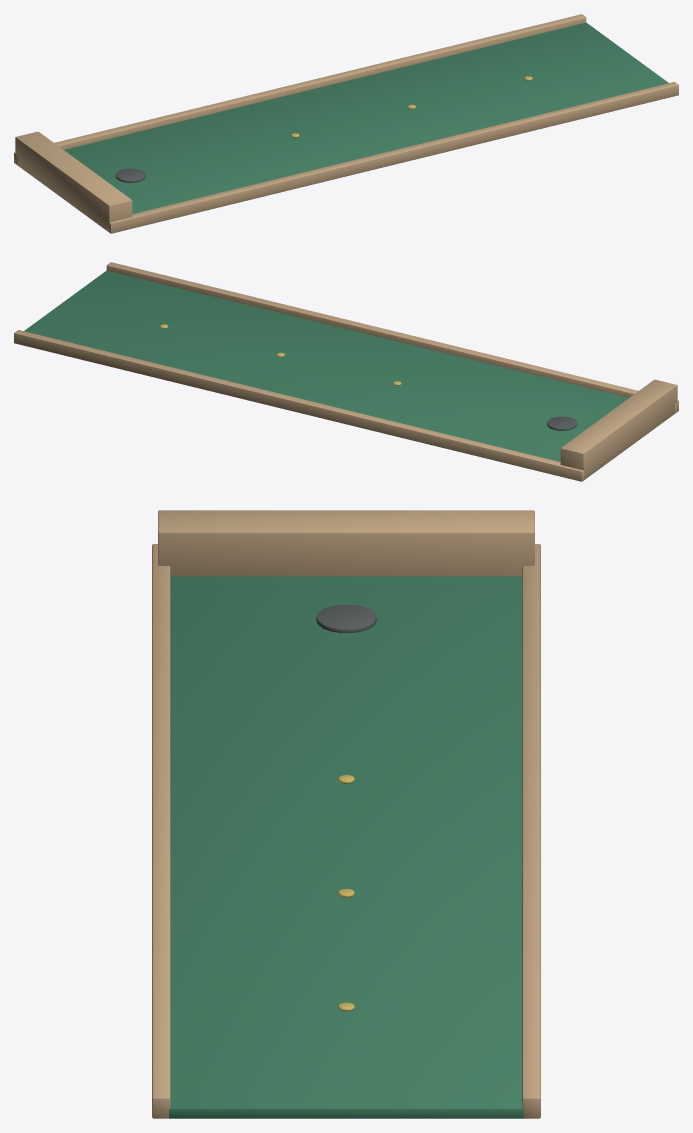
File: putting_demo.glb
3 views of the same model, one above another, from view 1: azimuth 30°, elevation 25°; view 2: azimuth 150°, elevation 25°; view 3: azimuth 270°, elevation 25° (orthographic). The views are drawn at different scales.
Visible parts, largest first — view 1: putting_demo; view 2: putting_demo; view 3: putting_demo.
Boxes of the visible parts, box(x1,y1,x2,y2) form: putting_demo: box(14, 14, 678, 233); putting_demo: box(14, 262, 678, 481); putting_demo: box(152, 510, 540, 1118).
Size of the model in its own units: 3.9 by 0.18 by 1.16.
